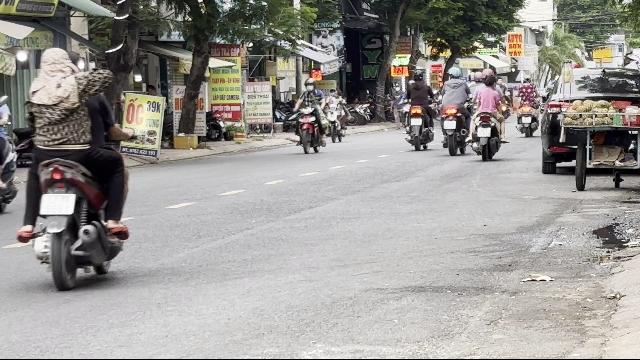helmet: (38, 46, 74, 90)
licenseplate: (40, 194, 74, 214)
motorcyclist: (10, 43, 134, 287)
